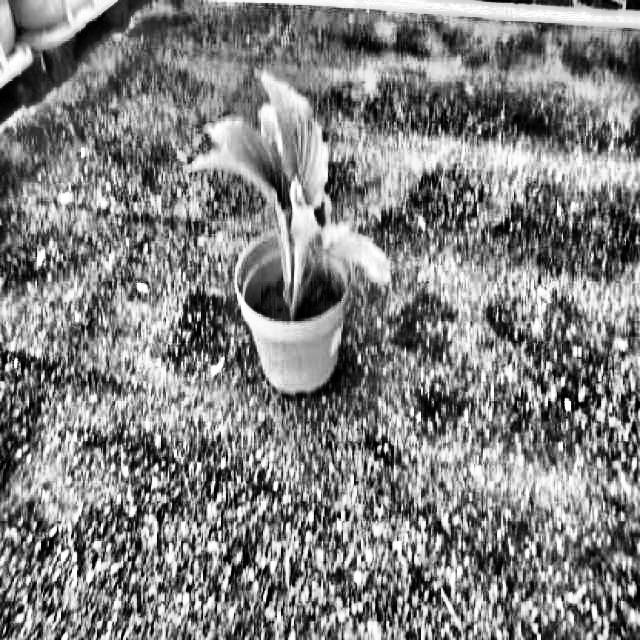plants: (193, 69, 394, 314)
